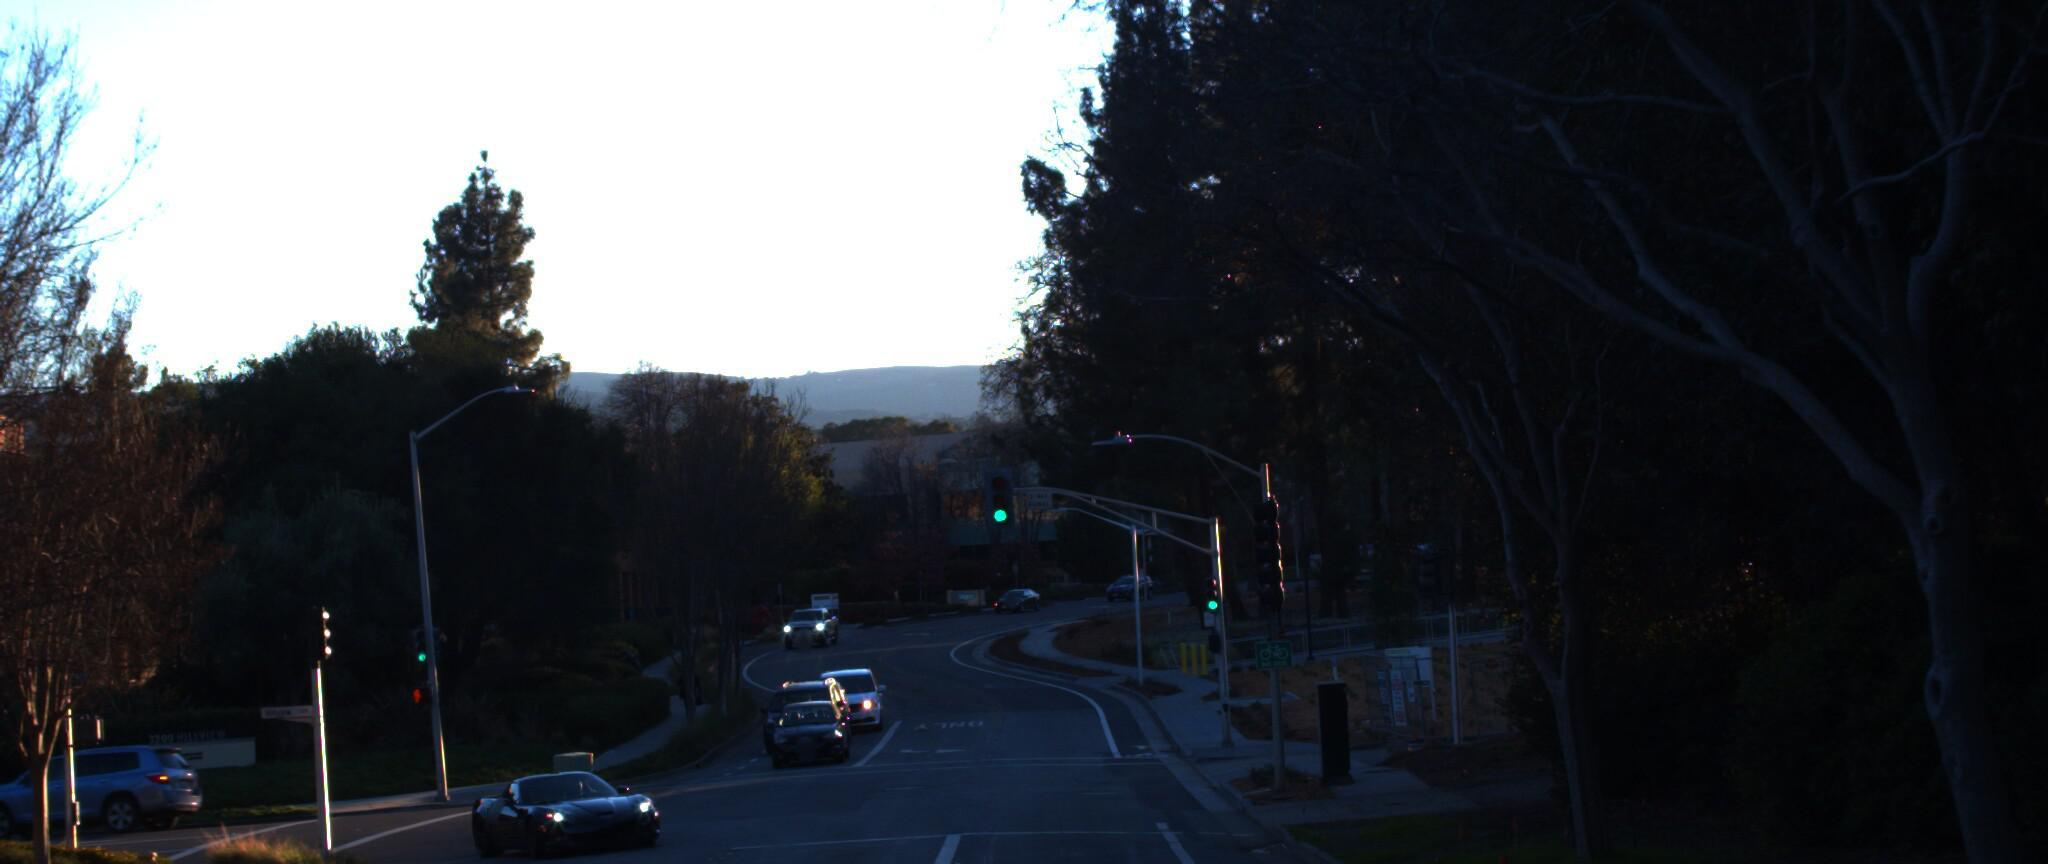car: (0, 732, 223, 842), (488, 749, 697, 850)
